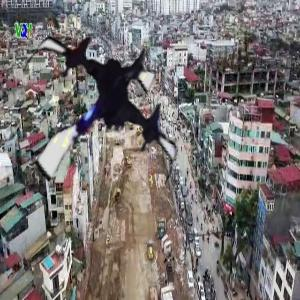drone: (4, 23, 196, 215)
